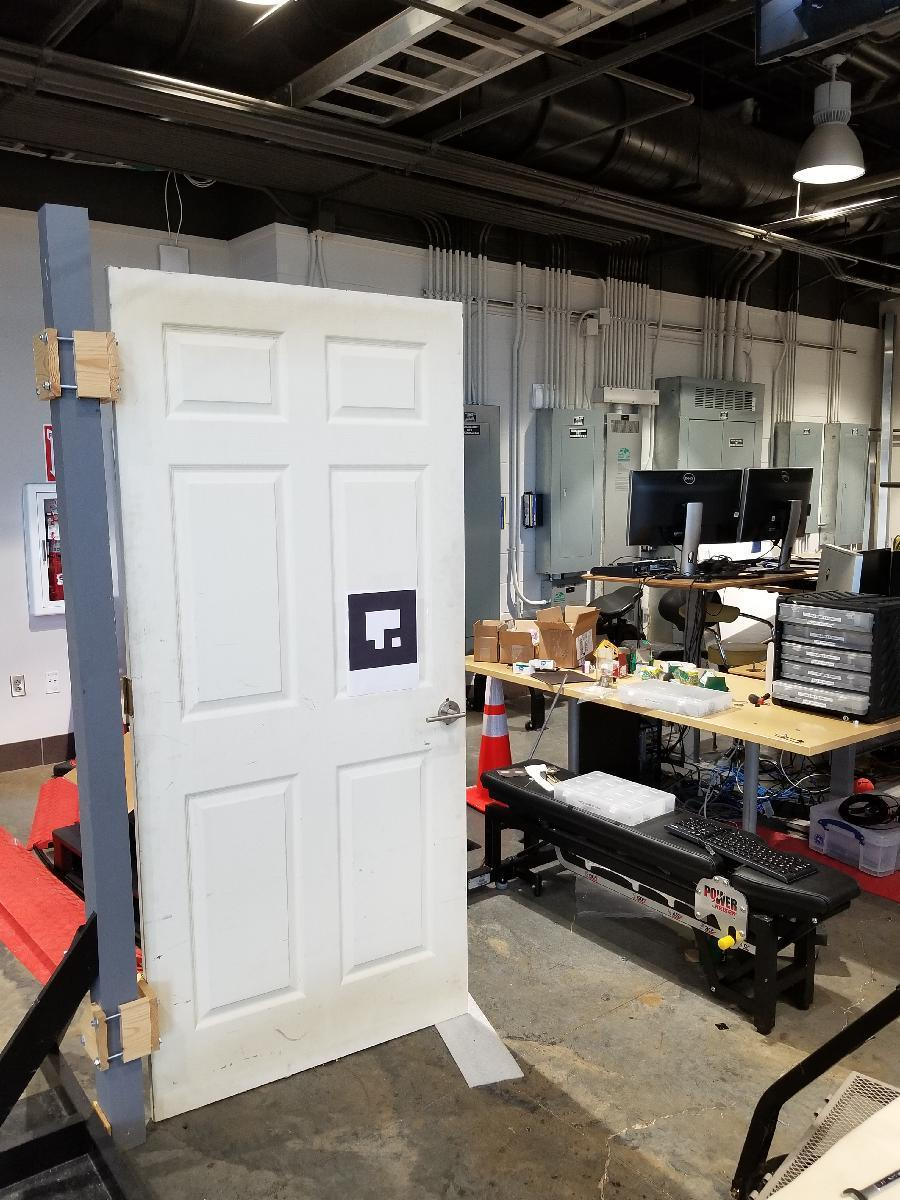door: (108, 263, 474, 1055)
handle: (416, 698, 470, 735)
